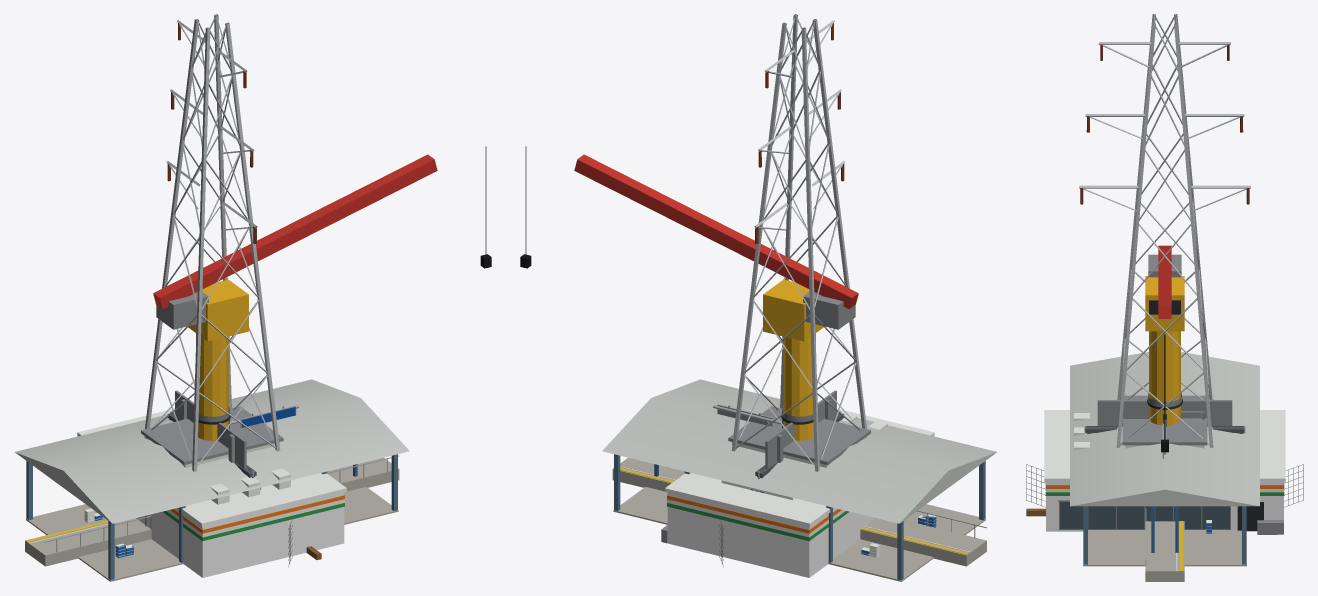
File: street.glb
The picture shows the model from 3 angles, left to right: view 1: azimuth 30°, elevation 25°; view 2: azimuth 150°, elevation 25°; view 3: azimuth 270°, elevation 25°; orthographic projection. The views are drawn at different scales.
Parts seen in each view (by area): view 1: fish_market, pylon, konbini, jib_crane, platform, gyokyo, billboard; view 2: fish_market, pylon, konbini, jib_crane, platform, gyokyo, billboard; view 3: fish_market, konbini, pylon, jib_crane, platform, billboard, gyokyo, backstop, ob_stair.
Part boxes in pixels (bbox=[...]): fish_market: bbox=[15, 379, 409, 581]; pylon: bbox=[145, 14, 280, 471]; konbini: bbox=[77, 408, 346, 577]; jib_crane: bbox=[153, 146, 491, 440]; platform: bbox=[25, 455, 399, 566]; gyokyo: bbox=[141, 406, 283, 467]; billboard: bbox=[175, 390, 246, 468]; fish_market: bbox=[602, 379, 996, 581]; pylon: bbox=[731, 14, 866, 471]; konbini: bbox=[661, 408, 934, 577]; jib_crane: bbox=[520, 146, 858, 440]; platform: bbox=[612, 457, 986, 566]; gyokyo: bbox=[728, 406, 870, 467]; billboard: bbox=[765, 390, 836, 468]; fish_market: bbox=[1070, 352, 1259, 566]; konbini: bbox=[1044, 410, 1285, 534]; pylon: bbox=[1079, 14, 1250, 447]; jib_crane: bbox=[1145, 245, 1184, 452]; platform: bbox=[1145, 507, 1184, 581]; billboard: bbox=[1097, 399, 1232, 427]; gyokyo: bbox=[1122, 395, 1207, 448]; backstop: bbox=[1026, 426, 1303, 516]; ob_stair: bbox=[1149, 506, 1180, 552].
Size of the model in its own units: 38.5 by 40.97 by 21.02.
